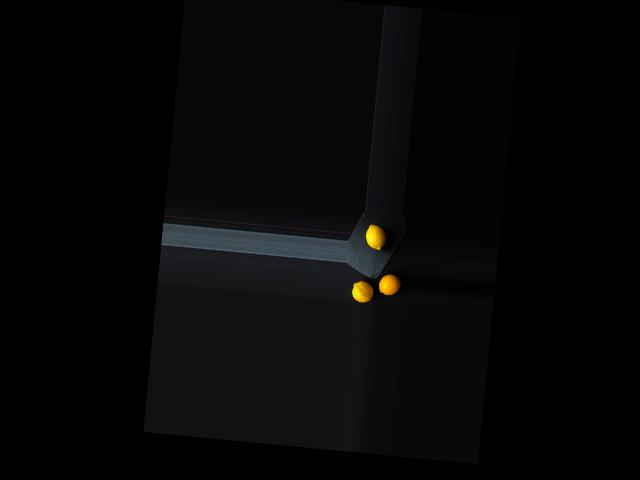lemon: (350, 278, 375, 305)
